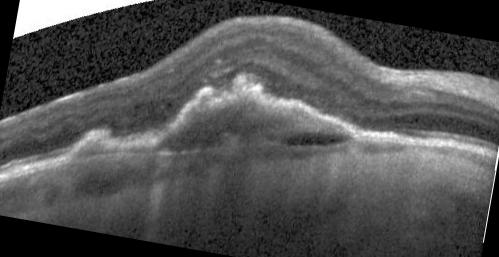subretinal_fluid: (286, 133, 349, 146)
subretinal_hyperreflective_material: (67, 73, 363, 159)
